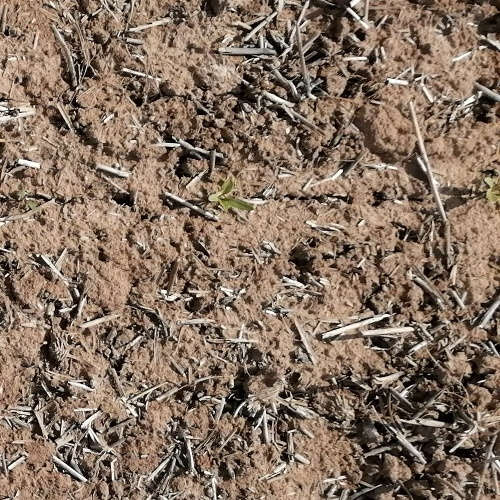beet: (207, 176, 258, 215), (483, 175, 500, 206)
